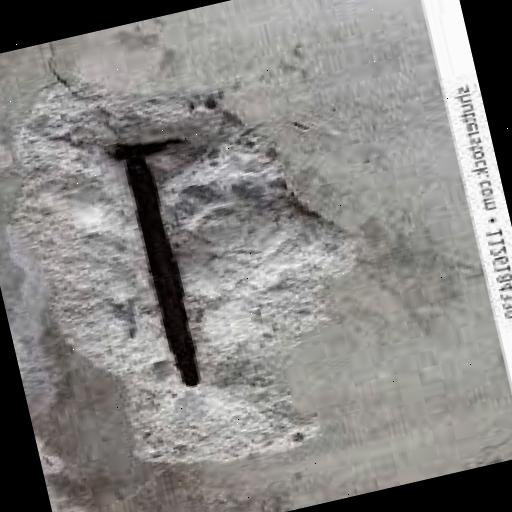spalling: (18, 88, 348, 458)
